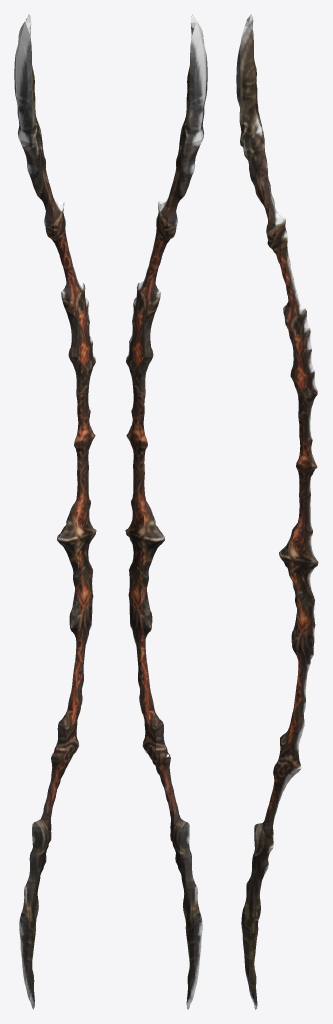
The model's file is bowa1.glb.
The picture shows the model from 3 angles, left to right: view 1: azimuth 30°, elevation 25°; view 2: azimuth 150°, elevation 25°; view 3: azimuth 330°, elevation 25°; orthographic projection.
Visible parts, largest first — view 1: Grid; view 2: Grid; view 3: Grid.
Boxes of the visible parts, <box> form: Grid: <box>14,14,96,1009</box>; Grid: <box>125,14,207,1009</box>; Grid: <box>236,14,318,1009</box>.
Size of the model in its own units: 0.2953 by 3.51 by 0.0968.
Materials: 1 (1 with a texture image).
